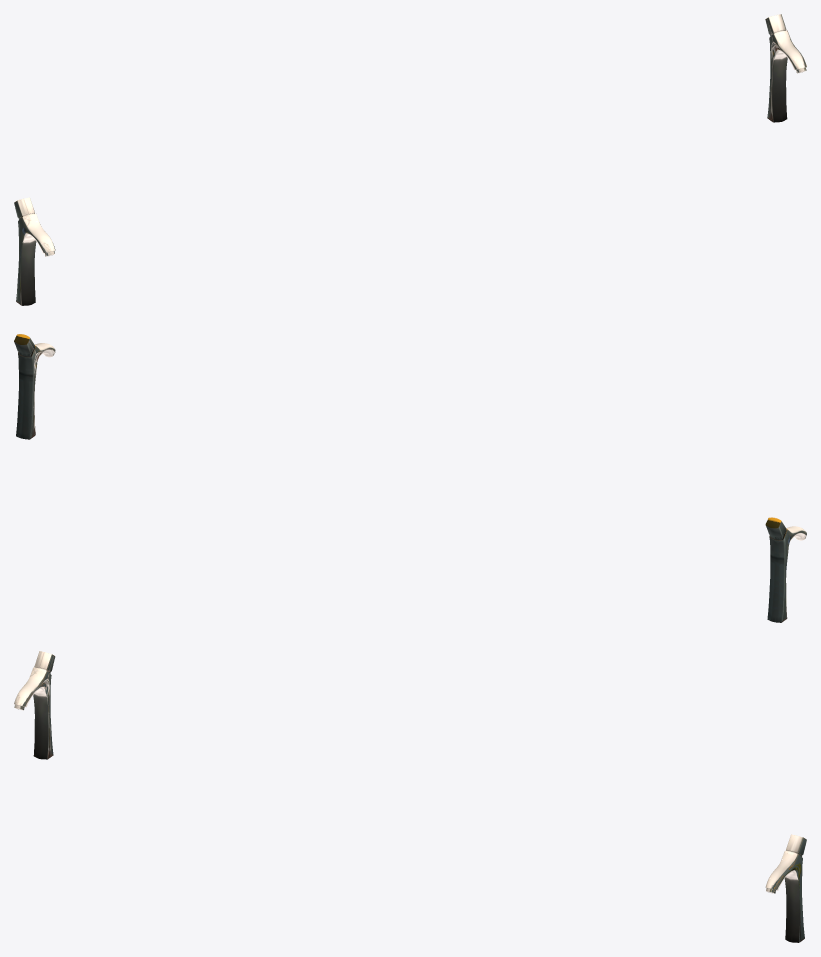
File: Armada_SLBM_Tall.glb
3 views of the same model, one above another, from view 1: azimuth 30°, elevation 25°; view 2: azimuth 150°, elevation 25°; view 3: azimuth 330°, elevation 25° (orthographic).
Parts seen in each view (by area): view 1: Armada_SLBM_Tall; view 2: Armada_SLBM_Tall; view 3: Armada_SLBM_Tall.
Boxes of the visible parts, bbox=[...] form: Armada_SLBM_Tall: bbox=[14, 14, 806, 305]; Armada_SLBM_Tall: bbox=[14, 334, 806, 622]; Armada_SLBM_Tall: bbox=[14, 651, 806, 942].
Bounding box in the file's own units: 1.97 × 0.2515 × 0.1466.
1 material, 1 textured.
